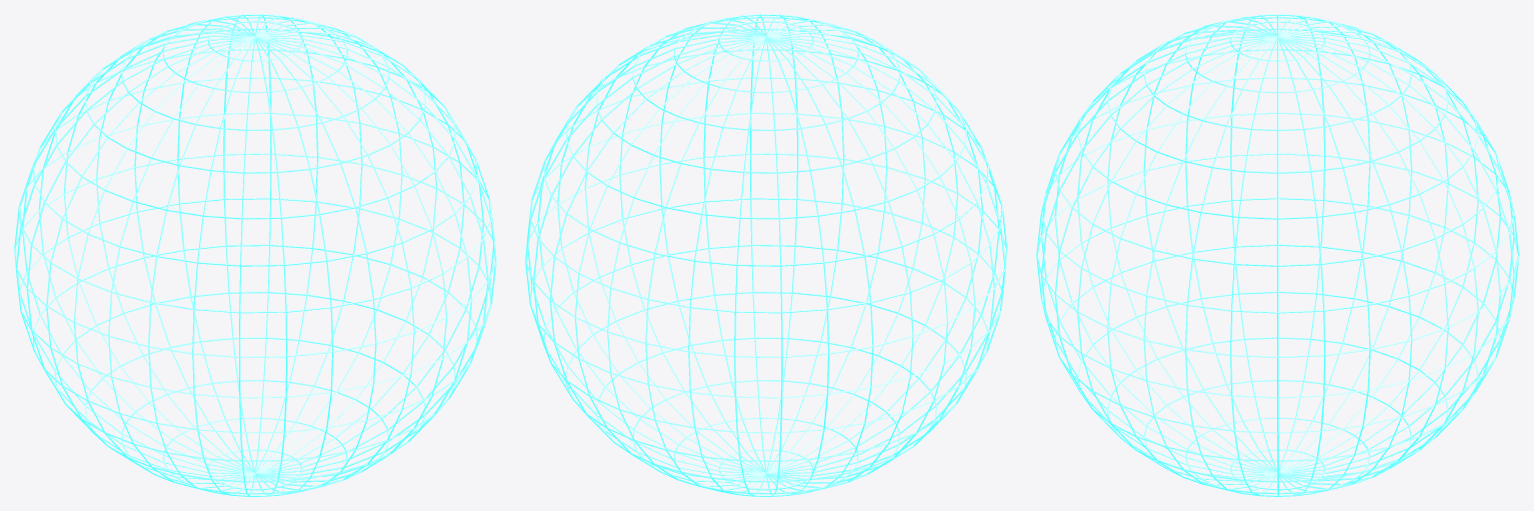
File: matrixBounds.glb
3 views of the same model, side by side, from view 1: azimuth 30°, elevation 25°; view 2: azimuth 150°, elevation 25°; view 3: azimuth 270°, elevation 25° (orthographic).
Parts seen in each view (by area): view 1: Matrix bounds; view 2: Matrix bounds; view 3: Matrix bounds.
Boxes of the visible parts, left/top/right/bottom form: Matrix bounds: left=14, top=14, right=496, bottom=496; Matrix bounds: left=525, top=14, right=1007, bottom=496; Matrix bounds: left=1036, top=14, right=1519, bottom=496.
Bounding box in the file's own units: 2.01 × 2.01 × 2.01.
